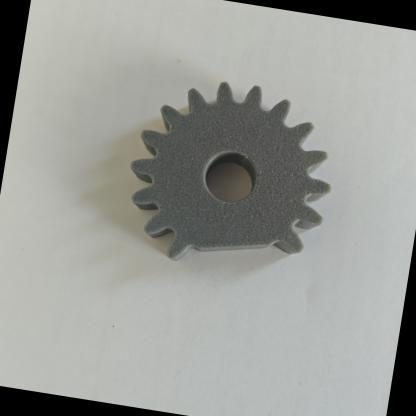defect: (160, 193, 324, 300)
gear: (84, 55, 366, 314)
